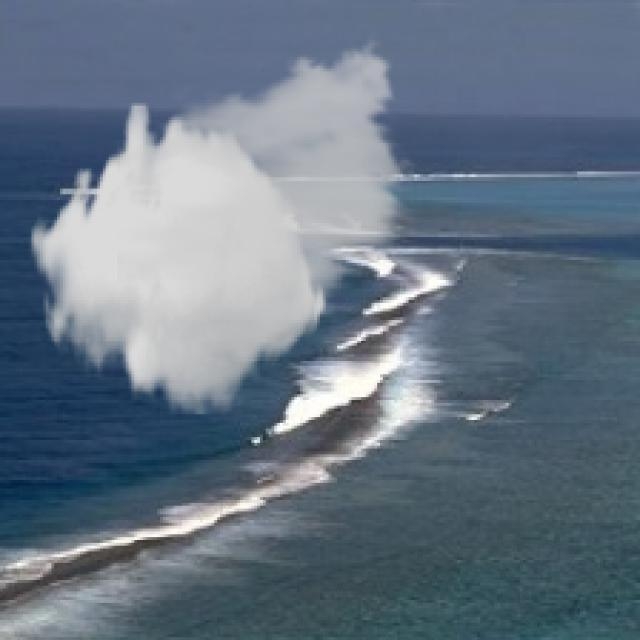Smoke: (29, 32, 418, 414)
